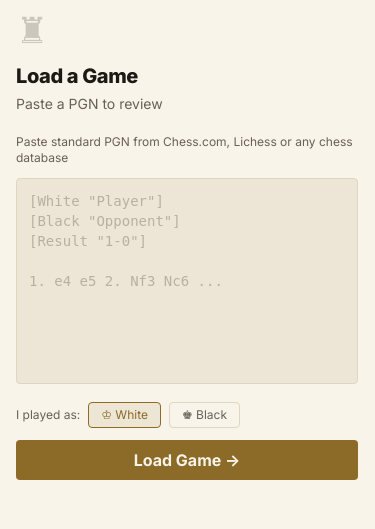
it: GameReviewPage › rejects invalid PGN
Replace the text in the text box with placeholder "White \"Player\"" with "not a real pgn at all" at (187, 281), box [16,178,358,384]
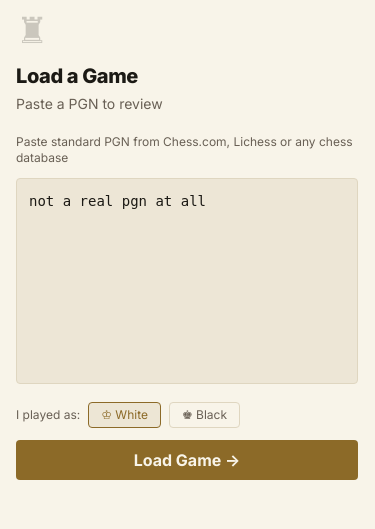
Click the button "Load Game →" at (187, 460), box [16,440,358,480]
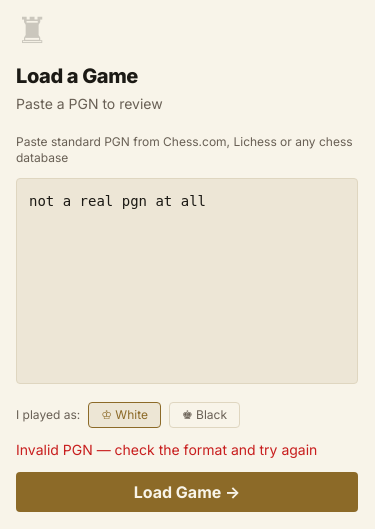
Check: the text "Invalid PGN — check the format and try again" is shown, box [16,440,358,460]
